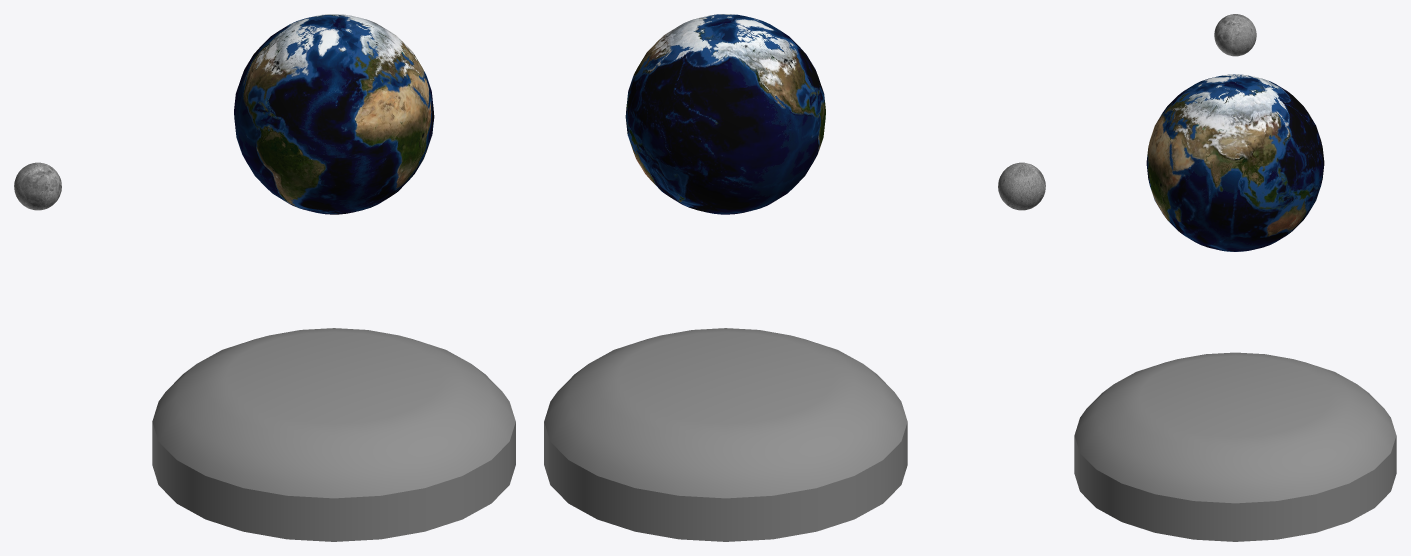
Rendered from pendulum.obj.
The picture shows the model from 3 angles, left to right: view 1: azimuth 30°, elevation 25°; view 2: azimuth 150°, elevation 25°; view 3: azimuth 270°, elevation 25°; orthographic projection. The views are drawn at different scales.
Visible parts, largest first — view 1: pendulumBottom, earth, moon; view 2: pendulumBottom, earth, moon; view 3: pendulumBottom, earth, moon.
Part boxes in pixels (x1,y1,x2,y2): pendulumBottom: [152, 328, 515, 541]; earth: [234, 14, 434, 214]; moon: [14, 162, 61, 210]; pendulumBottom: [544, 328, 907, 541]; earth: [625, 14, 825, 214]; moon: [998, 162, 1045, 210]; pendulumBottom: [1074, 352, 1396, 541]; earth: [1146, 74, 1324, 251]; moon: [1214, 14, 1256, 56].
Bounding box in the file's own units: 42.44 × 37.78 × 28.17.
